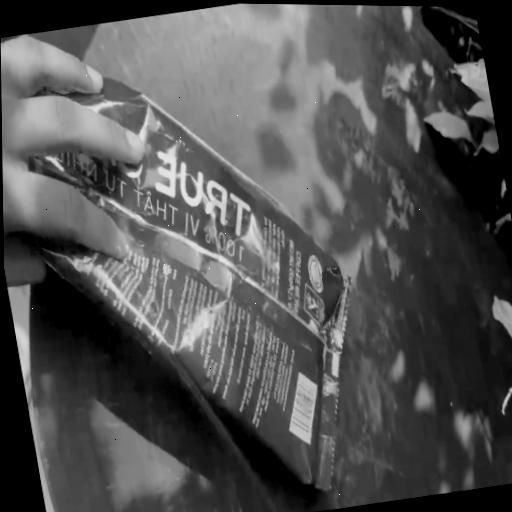cafe_hat: (28, 78, 349, 490)
